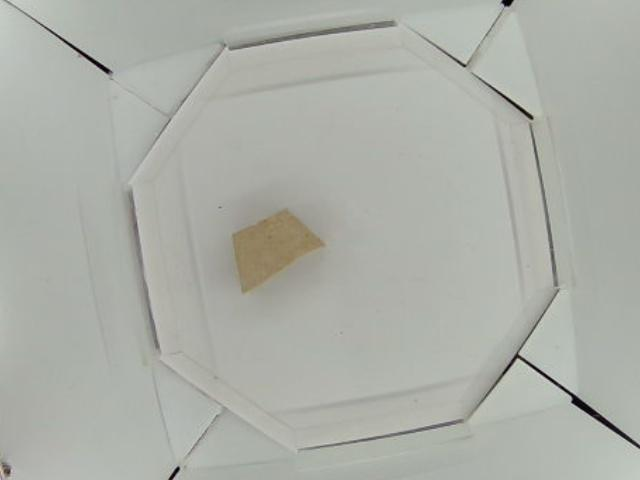China: (233, 209, 329, 289)
